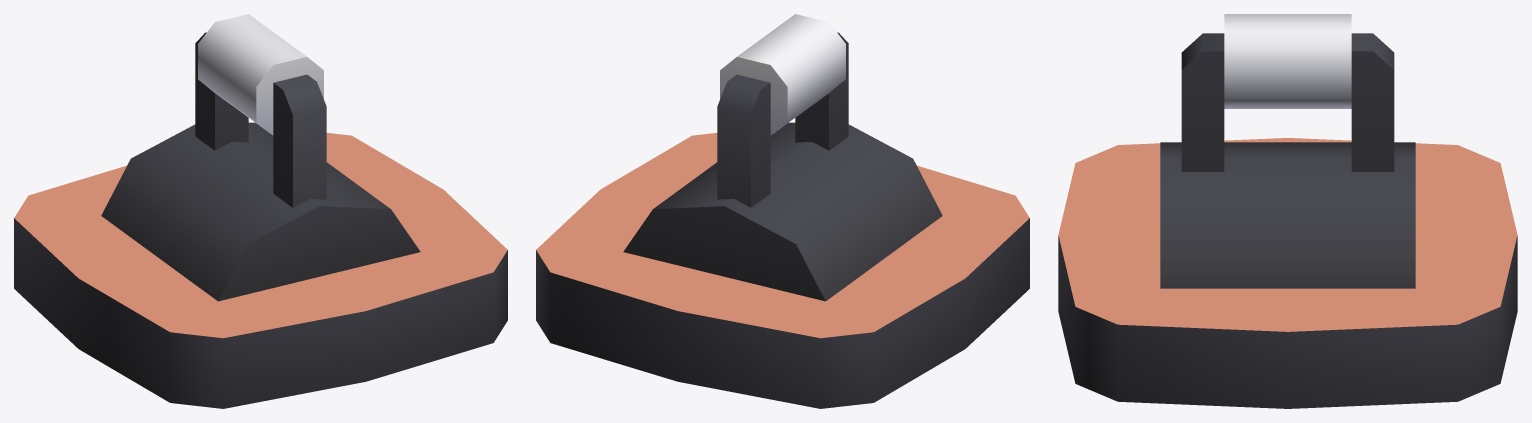
The model's file is lever-double.obj.
3 renders of one model, left to right at view 1: azimuth 30°, elevation 25°; view 2: azimuth 150°, elevation 25°; view 3: azimuth 270°, elevation 25°, orthographic. The views are drawn at different scales.
Parts seen in each view (by area): view 1: lever-double, handle; view 2: lever-double, handle; view 3: lever-double, handle.
Boxes of the visible parts, x1,y1,x2,y2 form: lever-double: (14, 122, 507, 408); handle: (195, 14, 326, 207); lever-double: (536, 122, 1029, 408); handle: (717, 14, 848, 207); lever-double: (1058, 138, 1517, 408); handle: (1181, 14, 1394, 171).
Bounding box in the file's own units: 0.54 × 0.375 × 0.54.
